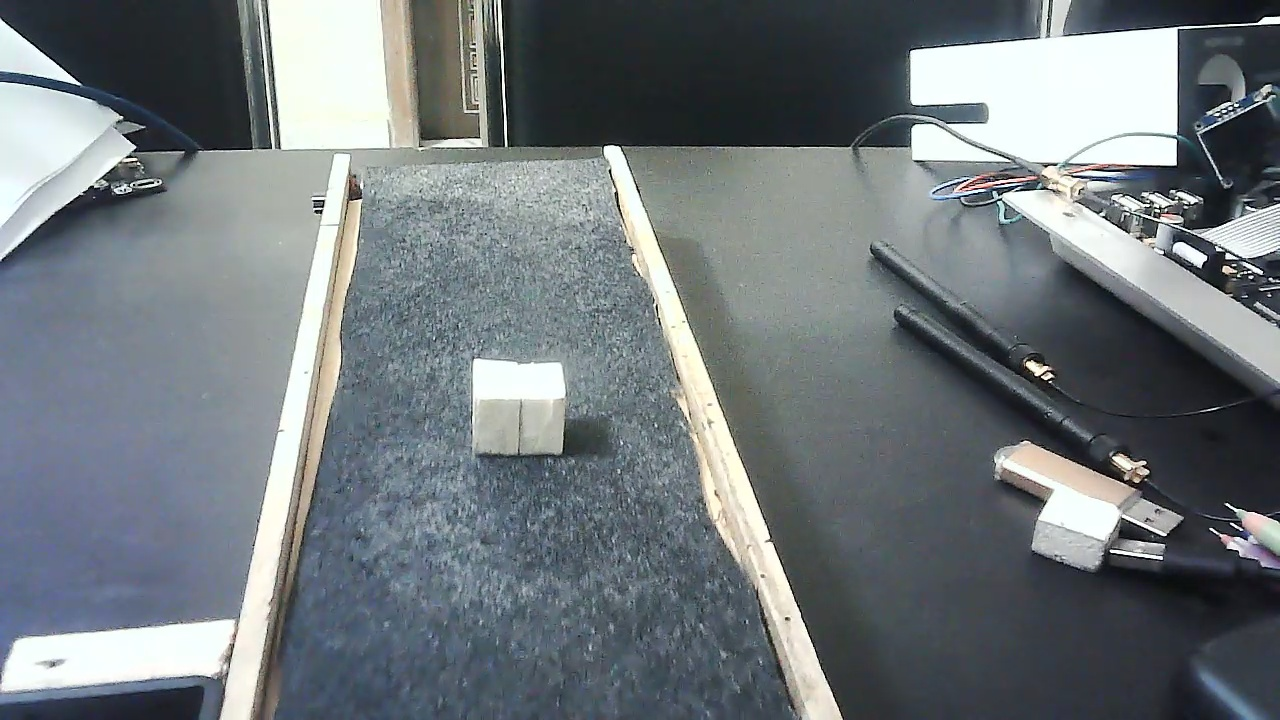Small: (472, 360, 565, 453)
